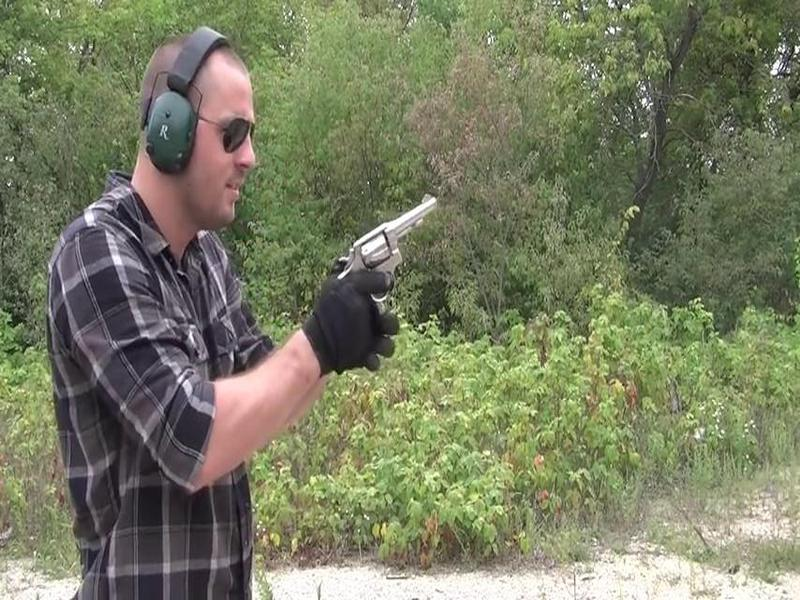Revolver: (328, 184, 449, 325)
